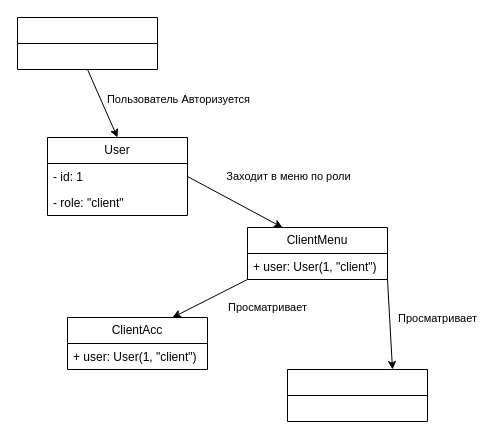
Some shapes in this 495 by 439 pixel diagram are drawn without their labels. Each missing label, with the centre of its shape:
"EnterApp" goes at pixel 87 43.
"ShowSchedule" goes at pixel 357 395.
